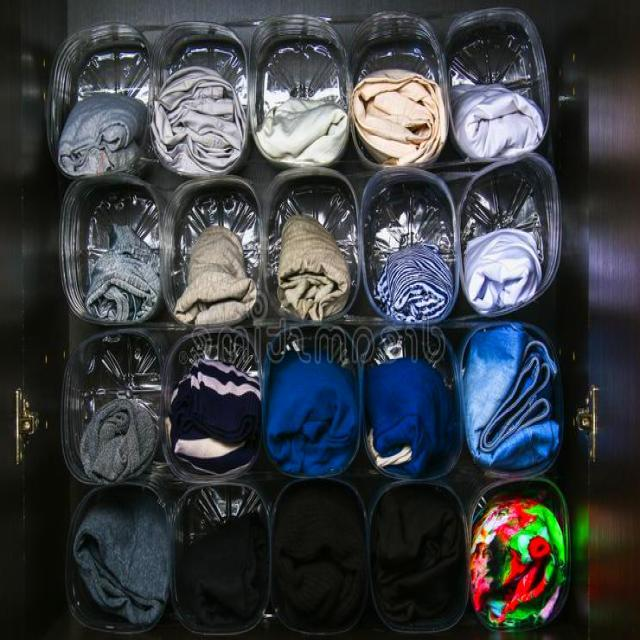clothes: (89, 63, 532, 640)
